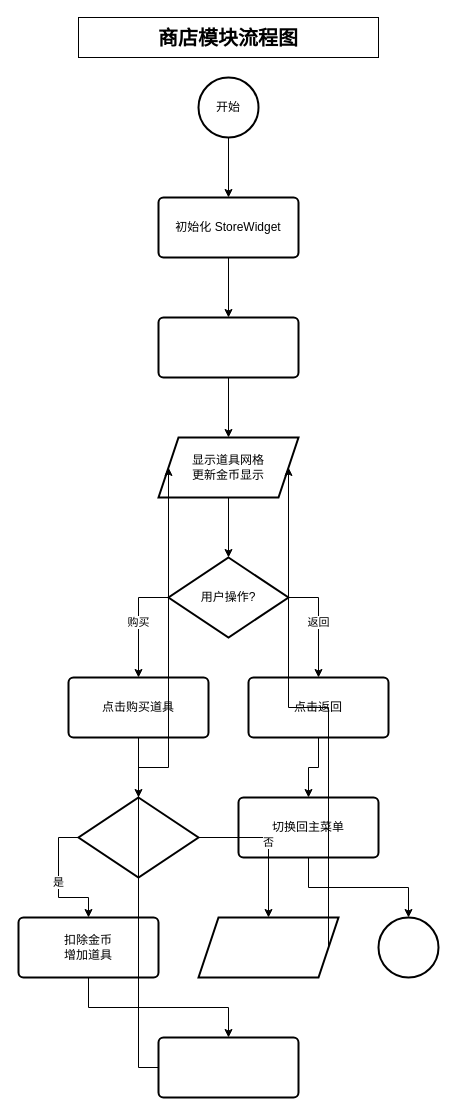
Image size: 456x1116. Some labels were removed from this diagram. The shapes that lost their labels are listed below. From the top down, each one's centre as x and y in pixels, then its label:
At pixel 228 347: "获取金币和道具数据 (CoinSystem/ItemSystem)".
At pixel 138 837: "金币足够?".
At pixel 268 947: "显示余额不足提示".
At pixel 408 947: "结束".
At pixel 228 1067: "保存数据 (SaveToDatabase)".
